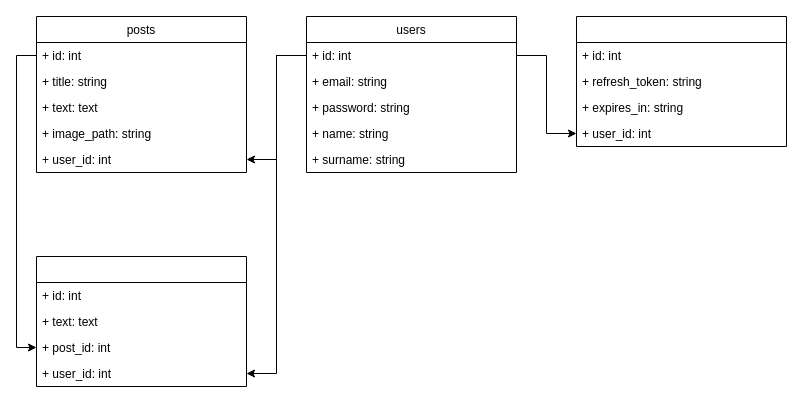
The diagram is 803 pixels wide and 403 high, and some of its shapes have lost their labels. The box of each missing label's shape, as (x1, y1, x2, y2) in pixels:
messages: (36, 256, 246, 386)
sessions: (576, 16, 786, 146)
